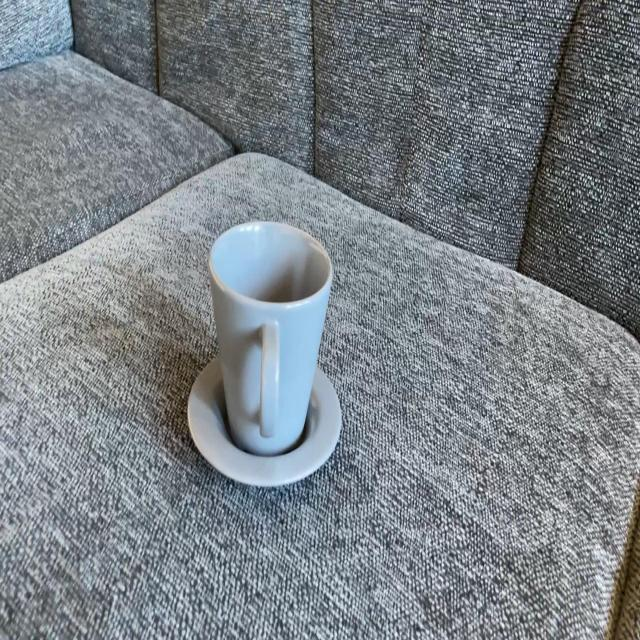cup: (188, 219, 342, 487)
